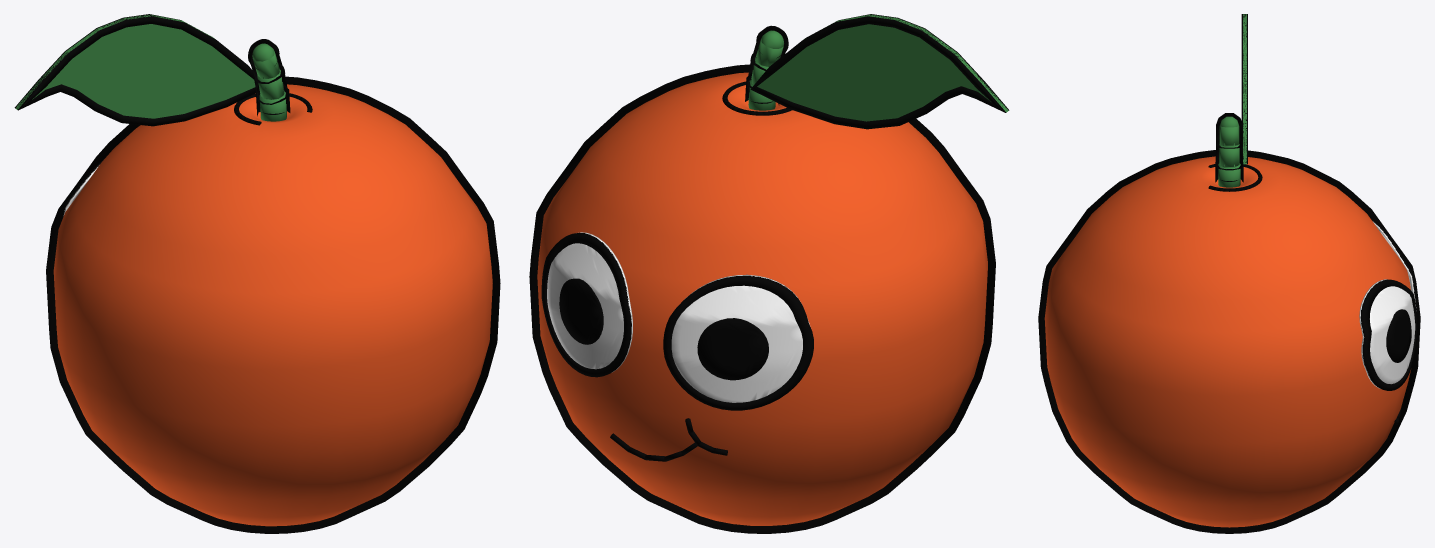
The model's file is OrangeStrangle.glb.
3 renders of one model, left to right at view 1: azimuth 30°, elevation 25°; view 2: azimuth 150°, elevation 25°; view 3: azimuth 270°, elevation 25°, orthographic. The views are drawn at different scales.
Parts seen in each view (by area): view 1: Orange, Leaf, Outline, LeafRim, Stem; view 2: Orange, Outline, Eyes, Leaf, LeafRim, Stem; view 3: Orange, Outline, Eyes, Stem, LeafRim, Leaf.
Part boxes in pixels (x1=…): Orange: x1=53, y1=84, x2=492, y2=526; Leaf: x1=15, y1=14, x2=255, y2=118; Outline: x1=46, y1=39, x2=500, y2=533; LeafRim: x1=14, y1=14, x2=256, y2=126; Stem: x1=252, y1=43, x2=286, y2=121; Orange: x1=537, y1=72, x2=987, y2=525; Outline: x1=529, y1=25, x2=995, y2=533; Eyes: x1=547, y1=232, x2=810, y2=402; Leaf: x1=757, y1=14, x2=1008, y2=121; LeafRim: x1=750, y1=14, x2=1009, y2=129; Stem: x1=748, y1=30, x2=783, y2=110; Orange: x1=1044, y1=156, x2=1410, y2=527; Outline: x1=1038, y1=113, x2=1420, y2=533; Eyes: x1=1359, y1=221, x2=1416, y2=388; Stem: x1=1218, y1=116, x2=1240, y2=187; LeafRim: x1=1241, y1=14, x2=1247, y2=164; Leaf: x1=1243, y1=14, x2=1246, y2=164.
Bounding box in the file's own units: 2.4 × 2.66 × 2.13.
